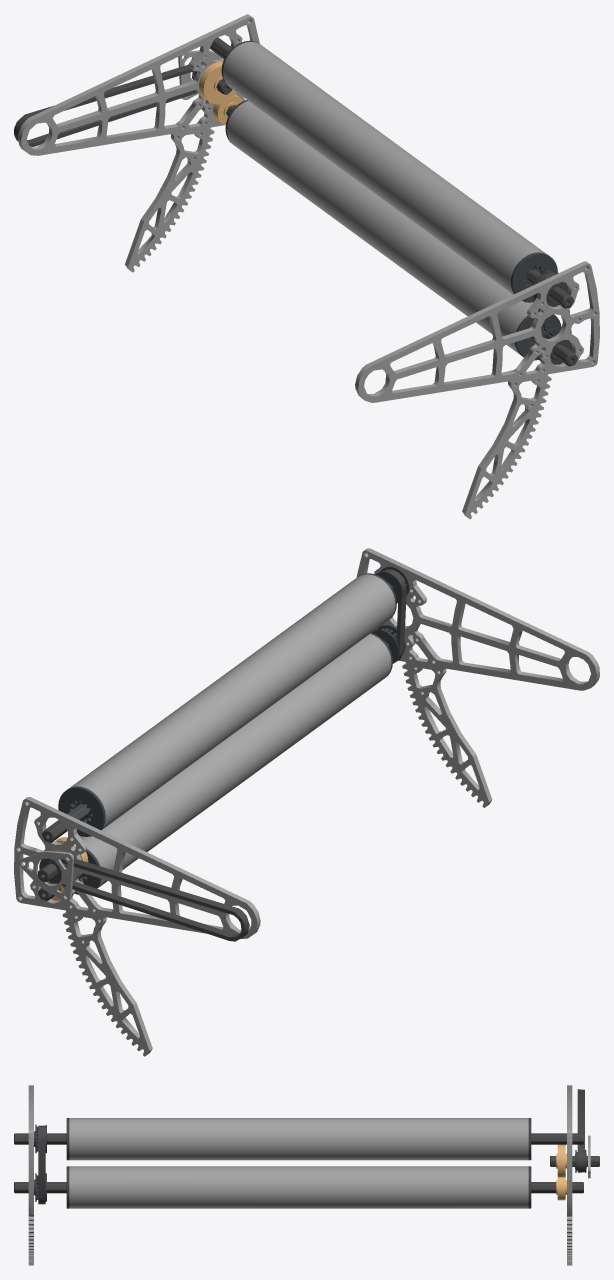
The model's file is 581-hood.glb.
The picture shows the model from 3 angles, top to bottom: view 1: azimuth 30°, elevation 25°; view 2: azimuth 150°, elevation 25°; view 3: azimuth 270°, elevation 25°; orthographic projection. The views are drawn at different scales.
Parts seen in each view (by area): view 1: 26G0604Hood Plate, 5mmBelt-95-9mm-15-18, 5MM-20-9mm-2 flange-, 30T 20DP 1/2" Alum; view 2: 26G0604Hood Plate, 5mmBelt-95-9mm-15-18, 5MM-20-9mm-2 flange-; view 3: 26G0604Hood Plate, 5mmBelt-95-9mm-15-18, 5MM-20-9mm-2 flange-, 30T 20DP 1/2" Alum.
Part boxes in pixels (bbox=[...]): 26G0604Hood Plate: bbox=[18, 14, 599, 519]; 5mmBelt-95-9mm-15-18: bbox=[14, 37, 577, 366]; 5MM-20-9mm-2 flange-: bbox=[192, 40, 572, 364]; 30T 20DP 1/2" Alum: bbox=[199, 61, 242, 125]; 26G0604Hood Plate: bbox=[14, 548, 599, 1056]; 5mmBelt-95-9mm-15-18: bbox=[38, 569, 406, 941]; 5MM-20-9mm-2 flange-: bbox=[39, 566, 409, 894]; 26G0604Hood Plate: bbox=[28, 1085, 590, 1265]; 5mmBelt-95-9mm-15-18: bbox=[14, 1089, 599, 1204]; 5MM-20-9mm-2 flange-: bbox=[34, 1118, 586, 1208]; 30T 20DP 1/2" Alum: bbox=[556, 1144, 566, 1200].
Bounding box in the file's own units: 0.2679 × 0.2408 × 0.705.
